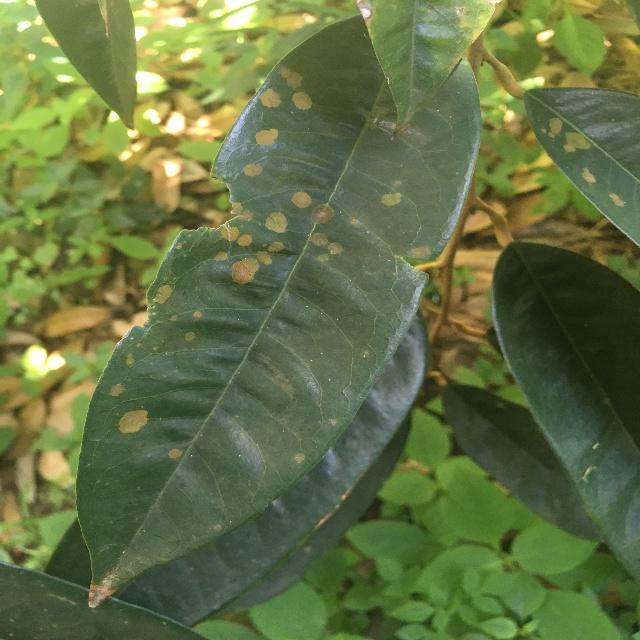Algal Leaf Spot: (74, 0, 489, 607)
